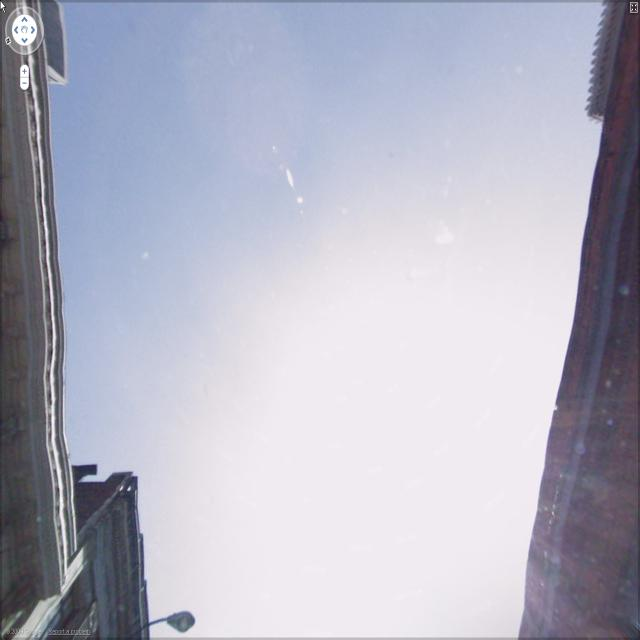b_1: (541, 9, 632, 640), (1, 478, 166, 626)
